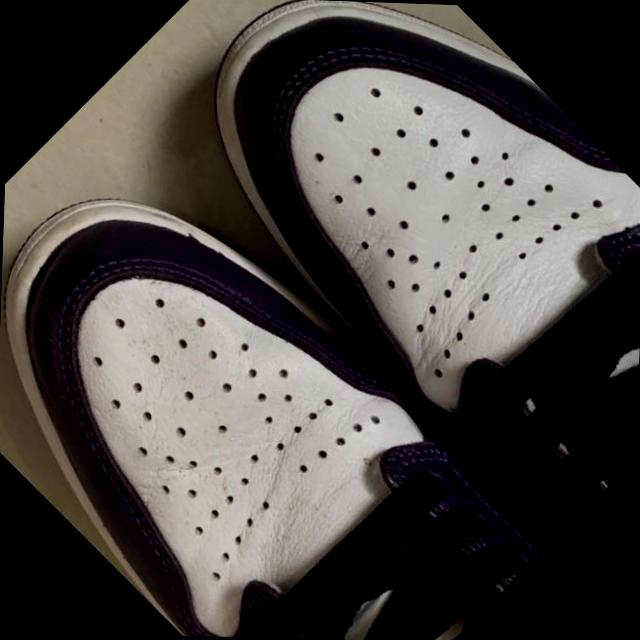nike_original_jordan: (0, 117, 566, 640), (122, 0, 640, 545)
